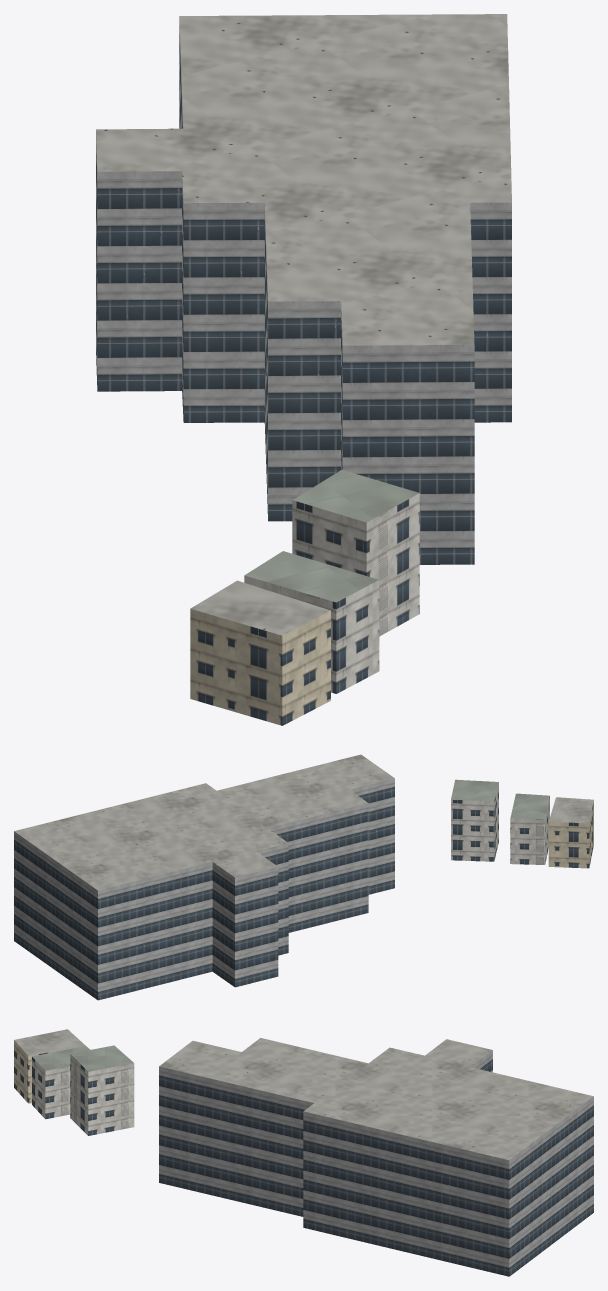
File: ArahaTown_Block_E03072_S04096.gltf
3 renders of one model, top to bottom at view 1: azimuth 30°, elevation 25°; view 2: azimuth 150°, elevation 25°; view 3: azimuth 270°, elevation 25°, orthographic. The views are drawn at different scales.
Parts seen in each view (by area): view 1: ArahaTown_Block_E03072_S04096; view 2: ArahaTown_Block_E03072_S04096; view 3: ArahaTown_Block_E03072_S04096.
Boxes of the visible parts, bbox=[...] form: ArahaTown_Block_E03072_S04096: bbox=[96, 14, 511, 725]; ArahaTown_Block_E03072_S04096: bbox=[14, 754, 593, 1000]; ArahaTown_Block_E03072_S04096: bbox=[14, 1029, 593, 1276].
Bounding box in the file's own units: 74.3 × 21.26 × 96.
Materials: 5 (5 with a texture image).
